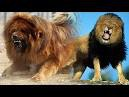lion: (86, 13, 129, 84)
